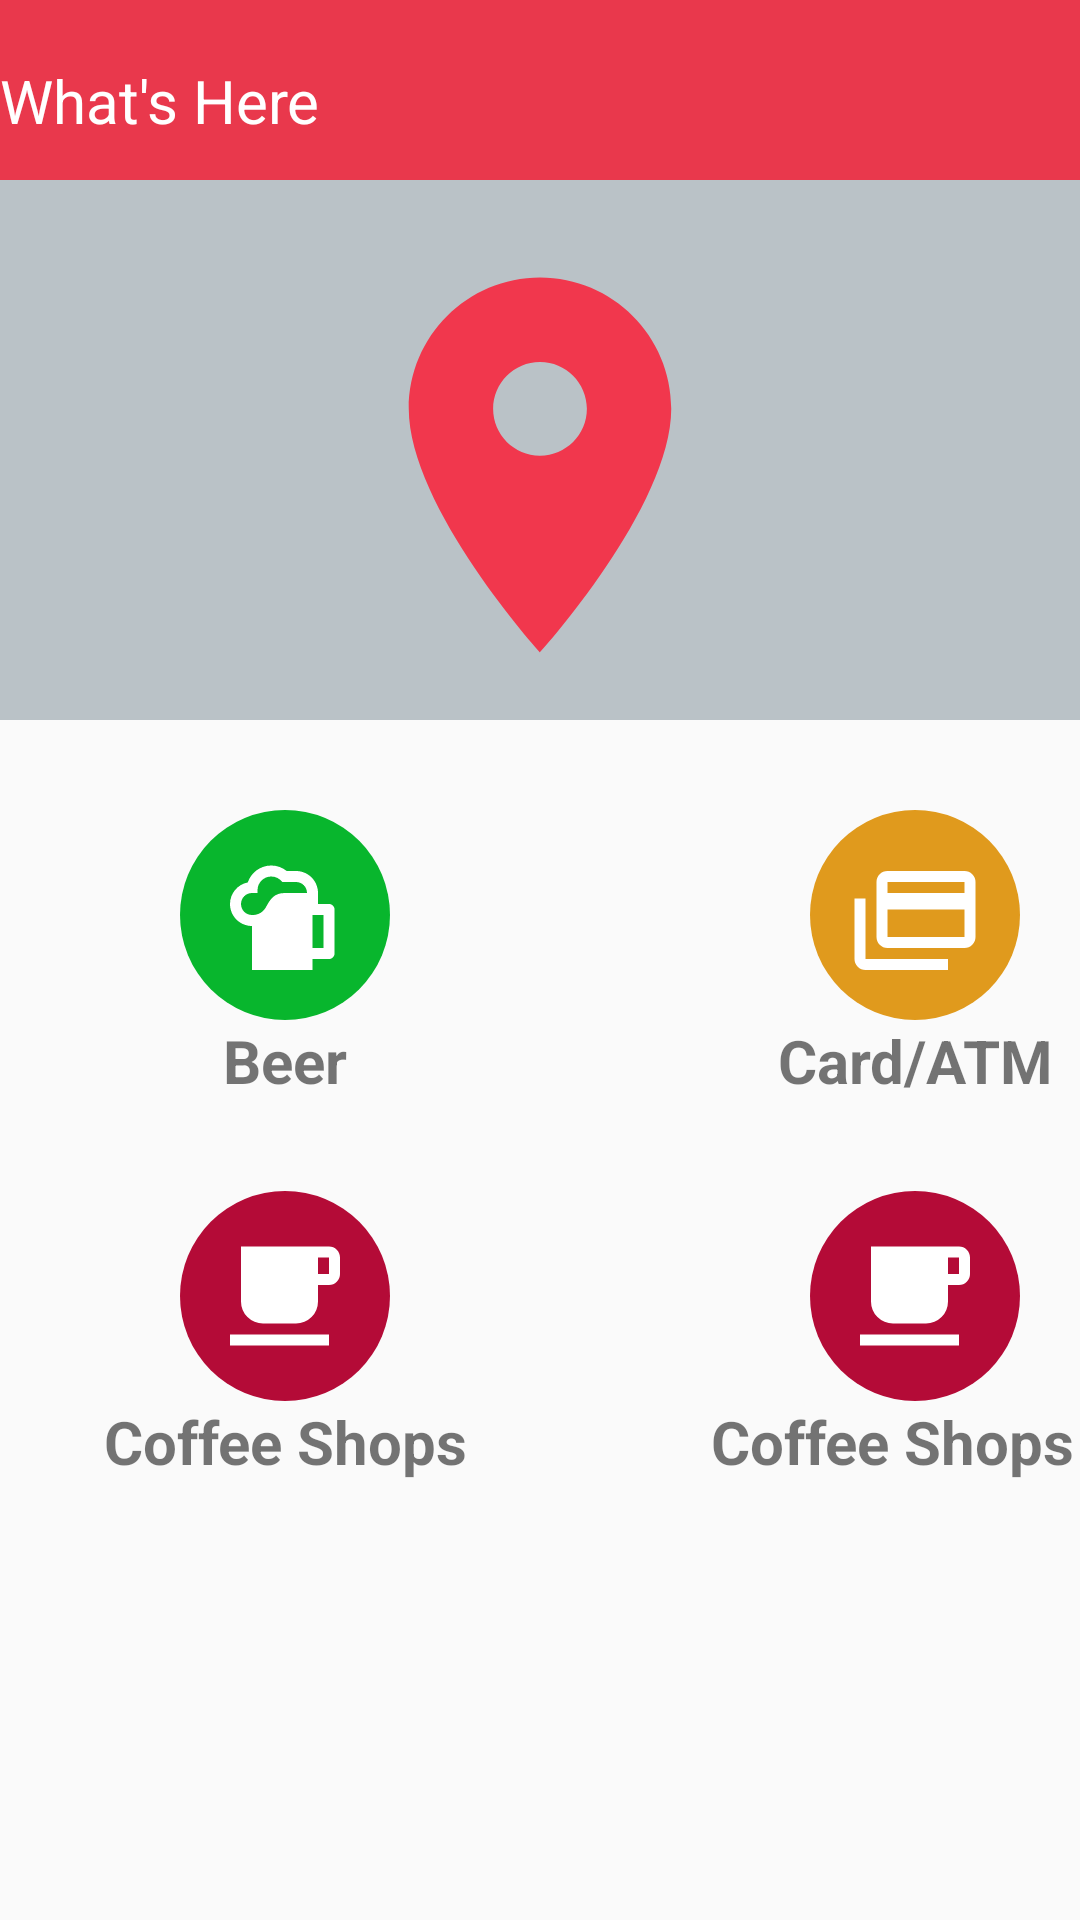

Icon bounding boxes for this 1080 × 1920 phone screenshot, format Rect(x1, y1, x2, y2):
local bar: Rect(180, 810, 390, 1020)
